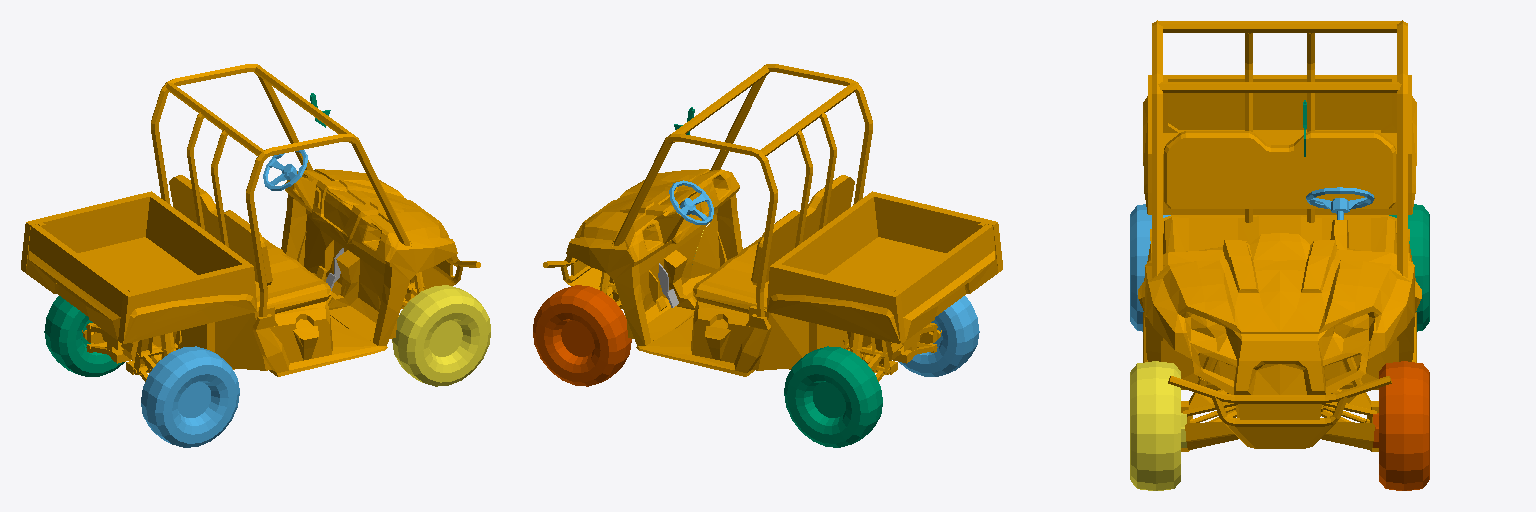
robot.urdf — our_car_master_model:
<?xml version="1.0"?>
<robot name="our_car_master_model">

  <gazebo>
    <plugin name="wheel_controller_master" filename="libcmdMasterCar.so"/>
  </gazebo>

  <!-- links -->
    <link name="chassis">
      <inertial>
        <mass value="720"/>
        <inertia ixx="140" ixy="0" iyy="550" ixz="0" iyz="0" izz="550"/>
      </inertial>

      <visual name="visual">
        <origin rpy="0 0 -1.570795" xyz="0 0 -0.62"/>
        <geometry>
          <mesh filename="package://car_description/meshes/polaris_ranger.dae" scale="1 1 1"/>
        </geometry>
        <material name="Polaris/Diffuse">
            <texture filename="package://car_description/materials/textures/Ranger_Diffuse.png"/>
        </material>
      </visual>

      <collision name="chassis_bottom">
        <origin rpy="0 0 -1.570795" xyz="0 0 0"/>
        <geometry>
          <box size="1.5 1.34 0.06"/>
        </geometry>
      </collision>

      <collision name="cargo_bottom">
        <origin rpy="0 0 -1.570795" xyz="0 0 0"/>
        <geometry>
          <box size="0.9 1.2 0.01"/>
        </geometry>
      </collision>

      <collision name="cargo_front">
        <origin rpy="0 0 -1.570795" xyz="0 0 0"/>
        <geometry>
          <box size="0.05 1.2 0.25"/>
        </geometry>
      </collision>

      <collision name="cargo_back">
        <origin rpy="0 0 -1.570795" xyz="0 0 0"/>
        <geometry>
          <box size="0.05 1.2 0.25"/>
        </geometry>
      </collision>

      <collision name="cargo_left">
        <origin rpy="0 0 -1.570795" xyz="0 0 0"/>
        <geometry>
          <box size="0.9 0.05 0.25"/>
        </geometry>
      </collision>

      <collision name="cargo_right">
        <origin rpy="0 0 -1.570795" xyz="0 0 0"/>
        <geometry>
          <box size="0.9 0.05 0.25"/>
        </geometry>
      </collision>

      <collision name="seat">
        <origin rpy="0 0 -1.570795" xyz="0 0 0"/>
        <geometry>
          <box size="0.6 1.22 0.5"/>
        </geometry>
      </collision>

      <collision name="mud_seat">
        <origin rpy="0 0 -1.570795" xyz="0 0 0"/>
        <geometry>
          <box size="0.6 1.15 0.1"/>
        </geometry>
      </collision>

      <collision name="seat_back">
        <origin rpy="0 0 -1.570795" xyz="0 0 0"/>
        <geometry>
          <box size="0.06 1 0.4"/>
        </geometry>
      </collision>

      <collision name="engine">
        <origin rpy="0 0 -1.570795" xyz="0 0 0"/>
        <geometry>
          <box size="0.58 1 0.8"/>
        </geometry>
      </collision>

      <collision name="handle_left_middle">
        <origin rpy="0 0 -1.570795" xyz="0 0 0"/>
        <geometry>
          <cylinder radius="0.02" length="0.17"/>
        </geometry>
      </collision>

      <collision name="handle_right_middle">
        <origin rpy="0 0 -1.570795" xyz="0 0 0"/>
        <geometry>
          <cylinder radius="0.02" length="0.17"/>
        </geometry>
      </collision>

      <collision name="rollcage_top_left">
        <origin rpy="0 0 -1.570795" xyz="0 0 0"/>
        <geometry>
          <cylinder radius="0.03" length="0.68"/>
        </geometry>
      </collision>

      <collision name="rollcage_top_right">
        <origin rpy="0 0 -1.570795" xyz="0 0 0"/>
        <geometry>
          <cylinder radius="0.03" length="0.68"/>
        </geometry>
      </collision>

      <collision name="rollcage_top_front">
        <origin rpy="0 0 -1.570795" xyz="0 0 0"/>
        <geometry>
          <cylinder radius="0.03" length="1.22"/>
        </geometry>
      </collision>

      <collision name="rollcage_top_back">
        <origin rpy="0 0 -1.570795" xyz="0 0 0"/>
        <geometry>
          <cylinder radius="0.03" length="1.22"/>
        </geometry>
      </collision>

      <collision name="rollcage_front_left">
        <origin rpy="0 0 -1.570795" xyz="0 0 0"/>
        <geometry>
          <cylinder radius="0.03" length="1.04"/>
        </geometry>
      </collision>

      <collision name="rollcage_front_right">
        <origin rpy="0 0 -1.570795" xyz="0 0 0"/>
        <geometry>
          <cylinder radius="0.03" length="1.04"/>
        </geometry>
      </collision>

      <collision name="fender_front_right">
        <origin rpy="0 0 -1.570795" xyz="0 0 0"/>
        <geometry>
          <cylinder radius="0.03" length="0.72"/>
        </geometry>
      </collision>

      <collision name="fender_front_left">
        <origin rpy="0 0 -1.570795" xyz="0 0 0"/>
        <geometry>
          <cylinder radius="0.03" length="0.72"/>
        </geometry>
      </collision>

      <collision name="rollcage_back_left">
        <origin rpy="0 0 -1.570795" xyz="0 0 0"/>
        <geometry>
          <cylinder radius="0.03" length="0.9"/>
        </geometry>
      </collision>

      <collision name="rollcage_back_right">
        <origin rpy="0 0 -1.570795" xyz="0 0 0"/>
        <geometry>
          <cylinder radius="0.03" length="0.9"/>
        </geometry>
      </collision>

      <collision name="rollcage_back_midleft">
        <origin rpy="0 0 -1.570795" xyz="0 0 0"/>
        <geometry>
          <cylinder radius="0.023" length="0.9"/>
        </geometry>
      </collision>

      <collision name="rollcage_back_midright">
        <origin rpy="0 0 -1.570795" xyz="0 0 0"/>
        <geometry>
          <cylinder radius="0.023" length="0.9"/>
        </geometry>
      </collision>

      <collision name="rollcage_back_upper_left">
        <origin rpy="0 0 -1.570795" xyz="0 0 0"/>
        <geometry>
          <cylinder radius="0.03" length="0.29"/>
        </geometry>
      </collision>

      <collision name="rollcage_back_upper_right">
        <origin rpy="0 0 -1.570795" xyz="0 0 0"/>
        <geometry>
          <cylinder radius="0.03" length="0.29"/>
        </geometry>
      </collision>

      <collision name="rollcage_back_upper_midleft">
        <origin rpy="0 0 -1.570795" xyz="0 0 0"/>
        <geometry>
          <cylinder radius="0.023" length="0.29"/>
        </geometry>
      </collision>

      <collision name="rollcage_back_upper_midright">
        <origin rpy="0 0 -1.570795" xyz="0 0 0"/>
        <geometry>
          <cylinder radius="0.023" length="0.29"/>
        </geometry>
      </collision>
    </link>

<!-- ****************************************************************************** -->

    <link name="rear_right_wheel">
      <inertial>
        <mass value="12"/>
        <inertia ixx="0.5" ixy="0" iyy="0.5" ixz="0" iyz="0" izz="1"/>
      </inertial>

      <collision name="collision">
        <origin rpy="0 0 -1.570795" xyz="0 0 0"/>
        <geometry>
          <cylinder radius="0.32" length="0.23"/>
        </geometry>
      </collision>

      <visual name="visual">
        <origin rpy="0 0 -1.570795" xyz="0 0 -0.62"/>
        <geometry>
          <mesh filename="package://car_description/meshes/polaris_rear_wheel_right.dae" scale="1 1 1"/>
        </geometry>
        <material name="Polaris/Diffuse">
          <texture filename="package://car_description/materials/textures/Ranger_Diffuse.png"/>
        </material>
      </visual>
    </link>

<!-- ****************************************************************************** -->

    <link name="rear_left_wheel">
      <inertial>
        <mass value="12"/>
        <inertia ixx="0.5" ixy="0" iyy="0.5" ixz="0" iyz="0" izz="1"/>
      </inertial>

      <collision name="collision">
        <origin rpy="0 0 -1.570795" xyz="0 0 0"/>
        <geometry>
          <cylinder radius="0.32" length="0.23"/>
        </geometry>
      </collision>

      <visual name="visual">
        <origin rpy="0 0 -1.570795" xyz="0 0 -0.62"/>
        <geometry>
          <mesh filename="package://car_description/meshes/polaris_rear_wheel_left.dae" scale="1 1 1"/>
        </geometry>
        <material name="Polaris/Diffuse">
            <texture filename="package://car_description/materials/textures/Ranger_Diffuse.png"/>
        </material>
      </visual>
    </link>

<!-- ***************************************************************************** -->

    <link name="front_right_wheel">
      <inertial>
        <mass value="12"/>
        <inertia ixx="0.5" ixy="0" iyy="0.5" ixz="0" iyz="0" izz="1"/>
      </inertial>

      <collision name="collision">
        <origin rpy="0 0 -1.570795" xyz="0 0 0"/>
        <geometry>
          <cylinder radius="0.32" length="0.23"/>
        </geometry>
      </collision>

      <visual name="visual">
        <origin rpy="0 0 -1.570795" xyz="0 0 -0.62"/>
        <geometry>
          <mesh filename="package://car_description/meshes/polaris_front_wheel_right.dae" scale="1 1 1"/>
        </geometry>
        <material name="Polaris/Diffuse">
            <texture filename="package://car_description/materials/textures/Ranger_Diffuse.png"/>
        </material>
      </visual>
    </link>

<!-- ***************************************************************************** -->

    <link name="front_right_wheel_steering_block">
      <inertial>
        <mass value="1"/>
        <inertia ixx="1" ixy="0" iyy="1" ixz="0" iyz="0" izz="1"/>
      </inertial>

      <collision name="collision">
        <origin rpy="0 0 -1.570795" xyz="0 0 0"/>
        <geometry>
          <cylinder radius="0.05" length="0.01"/>
        </geometry>
      </collision>
    </link>

<!-- ***************************************************************************** -->

    <link name="front_left_wheel">
      <inertial>
        <mass value="12"/>
        <inertia ixx="0.5" ixy="0" iyy="0.5" ixz="0" iyz="0" izz="1"/>
      </inertial>

      <collision name="collision">
        <origin rpy="0 0 -1.570795" xyz="0 0 0"/>
        <geometry>
          <cylinder radius="0.32" length="0.23"/>
        </geometry>
      </collision>

      <visual name="visual">
        <origin rpy="0 0 -1.570795" xyz="0 0 -0.62"/>
        <geometry>
          <mesh filename="package://car_description/meshes/polaris_front_wheel_left.dae" scale="1 1 1"/>
        </geometry>
        <material name="Polaris/Diffuse">
            <texture filename="package://car_description/materials/textures/Ranger_Diffuse.png"/>
        </material>
      </visual>
    </link>

<!-- ***************************************************************************** -->

    <link name="front_left_wheel_steering_block">
      <inertial>
        <mass value="1"/>
        <inertia ixx="1" ixy="0" iyy="1" ixz="0" iyz="0" izz="1"/>
      </inertial>

      <collision name="collision">
        <origin rpy="0 0 -1.570795" xyz="0 0 0"/>
        <geometry>
          <cylinder radius="0.05" length="0.01"/>
        </geometry>
      </collision>
    </link>

<!-- ***************************************************************************** -->

    <link name="gas_pedal">
      <inertial>
        <mass value="0.1"/>
        <inertia ixx="0.01" ixy="0" ixz="0" iyy="0.01" iyz="0" izz="0.01"/>
      </inertial>

      <collision name="gas_pedal_collision">
        <origin rpy="0 0 -1.570795" xyz="0 0 0"/>
        <geometry>
          <box size="0.1069 0.077 0.01"/>
        </geometry>
      </collision>

      <visual name="visual">
        <origin rpy="0 0 -1.570795" xyz="0 0 -0.62"/>
        <geometry>
          <mesh filename="package://car_description/meshes/polaris_pedal_gas.dae" scale="1 1 1"/>
        </geometry>
        <material name="Polaris/Diffuse">
            <texture filename="package://car_description/materials/textures/Ranger_Diffuse.png"/>
        </material>
      </visual>
    </link>

<!-- ***************************************************************************** -->

    <link name="brake_pedal">
      <inertial>
        <mass value="0.1"/>
        <inertia ixx="0.01" ixy="0" ixz="0" iyy="0.01" iyz="0" izz="0.01"/>
      </inertial>

      <collision name="brake_pedal_collision">
        <origin rpy="0 0 -1.570795" xyz="0 0 0"/>
        <geometry>
          <box size="0.063 0.08 0.01"/>
        </geometry>
      </collision>

      <visual name="visual">
        <origin rpy="0 0 -1.570795" xyz="0 0 -0.62"/>
        <geometry>
          <mesh filename="package://car_description/meshes/polaris_pedal_brake.dae" scale="1 1 1"/>
        </geometry>
        <material name="Polaris/Diffuse">
            <texture filename="package://car_description/materials/textures/Ranger_Diffuse.png"/>
        </material>
      </visual>
    </link>

<!-- ***************************************************************************** -->

    <link name="steering_wheel">
      <inertial>
        <mass value="1"/>
        <inertia ixx="0.012" ixy="0" ixz="0" iyy="0.012" iyz="0" izz="0.024"/>
      </inertial>

      <collision name="collision">
        <origin rpy="0 0 -1.570795" xyz="0 0 0"/>
        <geometry>
          <mesh filename="package://car_description/meshes/polaris_steering_wheel.dae" scale="1 1 1"/>
        </geometry>
      </collision>

      <visual name="visual">
        <origin rpy="0 0 -1.570795" xyz="0 0 -0.62"/>
        <geometry>
          <mesh filename="package://car_description/meshes/polaris_steering_wheel.dae" scale="1 1 1"/>
        </geometry>
        <material name="Polaris/Diffuse">
            <texture filename="package://car_description/materials/textures/Ranger_Diffuse.png"/>
        </material>
      </visual>
    </link>

<!-- ***************************************************************************** -->

    <link name="hand_brake">
      <inertial>
        <mass value="0.5"/>
        <inertia ixx="0.1" ixy="0" ixz="0" iyy="0.1" iyz="0" izz="0.05"/>
      </inertial>

      <collision name="hand_brake_collision">
        <origin rpy="0 0 -1.570795" xyz="0 0 0"/>
        <geometry>
          <mesh filename="package://car_description/meshes/polaris_e_brake.dae"/>
        </geometry>
      </collision>

      <visual name="hand_brake_visual">
        <origin rpy="0 0 -1.570795" xyz="0 0 0"/>
        <geometry>
          <mesh filename="package://car_description/meshes/polaris_e_brake.dae" scale="1 1 1"/>
        </geometry>
        <material name="Polaris/Diffuse">
            <texture filename="package://car_description/materials/textures/Ranger_Diffuse.png"/>
        </material>
      </visual>
    </link>

<!-- ***************************************************************************** -->

    <link name="FNR_switch">
      <inertial>
        <mass value="0.1"/>
        <inertia ixx="0.1" ixy="0" ixz="0" iyy="6e-05" iyz="0" izz="0.1"/>
      </inertial>

      <collision name="FNR_switch">
        <origin rpy="0 0 -1.570795" xyz="0 0 0"/>
        <geometry>
          <box size="0.02 0.04 0.08"/>
        </geometry>
      </collision>

      <visual name="FNR_switch_F">
        <origin rpy="0 0 -1.570795" xyz="0 0 0"/>
        <geometry>
          <box size="0.02 0.04 0.08"/>
        </geometry>
        <material name="FNR_switch_F">
            <texture filename="package://car_description/materials/textures/FNR_switch_F.png"/>
        </material>
      </visual>

      <visual name="FNR_switch_R">
        <origin rpy="0 0 -1.570795" xyz="0 0 0"/>
        <geometry>
          <box size="0.0199 0.0399 0.0799"/>
        </geometry>
        <material name="FNR_switch_R">
            <texture filename="package://car_description/materials/textures/FNR_switch_R.png"/>
        </material>
      </visual>
    </link>

<!-- ***************************************************************************** -->
<!-- ***************************************************************************** -->

<!-- joints -->

    <joint name="front_left_steering_joint" type="continuous">
      <parent link="chassis"/>
      <child link="front_left_wheel_steering_block"/>
      <axis xyz="0 0 1"/>
      <dynamics damping="50"/>
    </joint>

<!-- ***************************************************************************** -->

    <joint name="front_left_wheel_joint" type="continuous">
      <parent link="front_left_wheel_steering_block"/>
      <child link="front_left_wheel"/>
      <axis xyz="0 1 0.05"/>
    </joint>

<!-- ***************************************************************************** -->

    <joint name="front_right_steering_joint" type="continuous">
      <parent link="chassis"/>
      <child link="front_right_wheel_steering_block"/>
      <axis xyz="0 0 1"/>
      <dynamics damping="50"/>
    </joint>

<!-- ***************************************************************************** -->

    <joint name="front_right_wheel_joint" type="continuous">
      <parent link="front_right_wheel_steering_block"/>
      <child link="front_right_wheel"/>
      <axis xyz="0 1 -0.05"/>
    </joint>

<!-- ***************************************************************************** -->

    <joint name="rear_left_wheel_joint" type="continuous">
      <parent link="chassis"/>
      <child link="rear_left_wheel"/>
      <axis xyz="0 1 0.05"/>
    </joint>

<!-- ***************************************************************************** -->

    <joint name="rear_right_wheel_joint" type="continuous">
      <parent link="chassis"/>
      <child link="rear_right_wheel"/>
      <axis xyz="0 1 -0.05"/>
    </joint>

<!-- ***************************************************************************** >

    <joint name="rear_differential_joint" type="continuous">
      <parent link="rear_left_wheel"/>
      <child link="rear_right_wheel"/>
      <axis xyz="0 1 0"/>
      <dynamics damping="70"/>
    </joint>

< ***************************************************************************** -->

    <joint name="gas_joint" type="prismatic">
      <parent link="chassis"/>
      <child link="gas_pedal"/>
      <axis xyz="1 0 -1"/>
      <limit lower="0" upper="0.08" effort="100" velocity="100"/>
      <!-- effort and velocity arbitrarly set -->
      <dynamics damping="3"/>
    </joint>

<!-- ***************************************************************************** -->

    <joint name="brake_joint" type="prismatic">
      <parent link="chassis"/>
      <child link="brake_pedal"/>
      <axis xyz="1 0 -0.6"/>
      <limit lower="0" upper="0.08" effort="100" velocity="100"/>
      <!-- effort and velocity arbitrarly set -->
      <dynamics damping="3"/>
    </joint>

<!-- ***************************************************************************** -->

    <joint name="steering_joint" type="continuous">
      <parent link="chassis"/>
      <child link="steering_wheel"/>
      <axis xyz="-1 0 0.84365"/>
      <dynamics damping="1"/>
    </joint>

<!-- ***************************************************************************** -->

    <joint name="hand_brake_joint" type="revolute">
      <parent link="chassis"/>
      <child link="hand_brake"/>
      <axis xyz="0 -1 0"/>
      <limit lower="0" upper="0.6" effort="50" velocity="50"/>
      <!-- effort and velocity arbitrarly set -->
      <dynamics damping="1"/>
    </joint>

<!-- ***************************************************************************** -->

    <joint name="FNR_switch_joint" type="revolute">
      <parent link="chassis"/>
      <child link="FNR_switch"/>
      <axis xyz="0 -1 0"/>
      <limit lower="-0.3" upper="0.3" effort="50" velocity="50"/>
      <!-- effort and velocity arbitrarly set -->
      <dynamics damping="0.01"/>
    </joint>

<!-- FIN -->
</robot>

--- What the picture shows (computed from the rendered views, not written in the file) ---
3 views of the same robot in one strip: view 1: azimuth 30°, elevation 25°; view 2: azimuth 150°, elevation 25°; view 3: azimuth 270°, elevation 25° (orthographic).
Model our_car_master_model with 12 links and 11 joints (2 revolute, 7 continuous, 2 prismatic), rooted at chassis, posed all joints at 0.
Visible links, largest first — view 1: chassis, rear_right_wheel, front_right_wheel, rear_left_wheel, steering_wheel; view 2: chassis, rear_left_wheel, front_left_wheel, rear_right_wheel, steering_wheel; view 3: chassis, front_right_wheel, front_left_wheel, rear_right_wheel, rear_left_wheel, steering_wheel.
Boxes of the visible links, x1,y1,x2,y2 form: chassis: [21, 64, 480, 381]; rear_right_wheel: [141, 346, 239, 447]; front_right_wheel: [392, 285, 490, 386]; rear_left_wheel: [44, 296, 124, 376]; steering_wheel: [263, 150, 307, 190]; chassis: [543, 64, 1002, 381]; rear_left_wheel: [784, 346, 882, 447]; front_left_wheel: [533, 285, 631, 386]; rear_right_wheel: [899, 296, 979, 376]; steering_wheel: [669, 180, 713, 224]; chassis: [1138, 20, 1421, 451]; front_right_wheel: [1130, 361, 1186, 490]; front_left_wheel: [1373, 361, 1429, 490]; rear_right_wheel: [1130, 204, 1170, 331]; rear_left_wheel: [1389, 204, 1429, 331]; steering_wheel: [1306, 187, 1374, 219].
Bounding box of the posed robot: 2.73 × 1.49 × 1.95 m (x, y, z).
9 mesh visuals loaded from 9 distinct referenced files (9 Collada DAE).